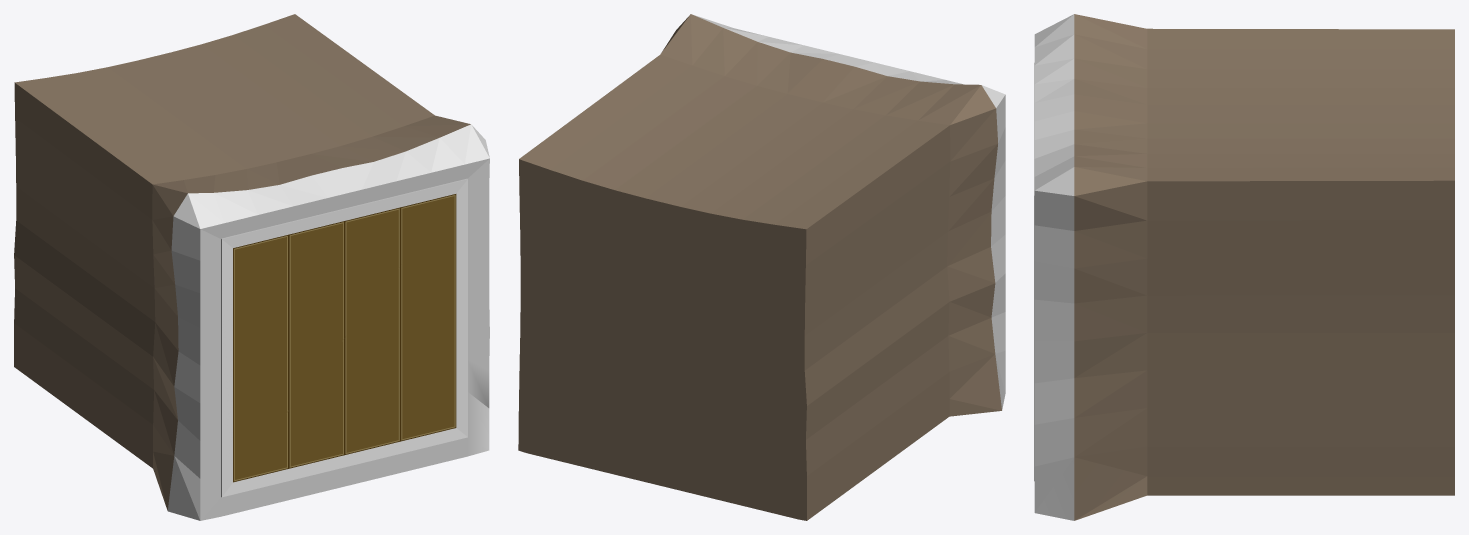
File: Pusher.fbx
3 views of the same model, side by side, from view 1: azimuth 30°, elevation 25°; view 2: azimuth 150°, elevation 25°; view 3: azimuth 270°, elevation 25° (orthographic). The views are drawn at different scales.
Parts seen in each view (by area): view 1: PusherStructure, Pusher; view 2: PusherStructure; view 3: PusherStructure.
Boxes of the visible parts, x1,y1,x2,y2 form: PusherStructure: [14, 14, 489, 520]; Pusher: [221, 178, 467, 497]; PusherStructure: [518, 14, 1005, 520]; PusherStructure: [1034, 14, 1454, 520].
Bounding box in the file's own units: 13.21 × 12.48 × 13.68.
